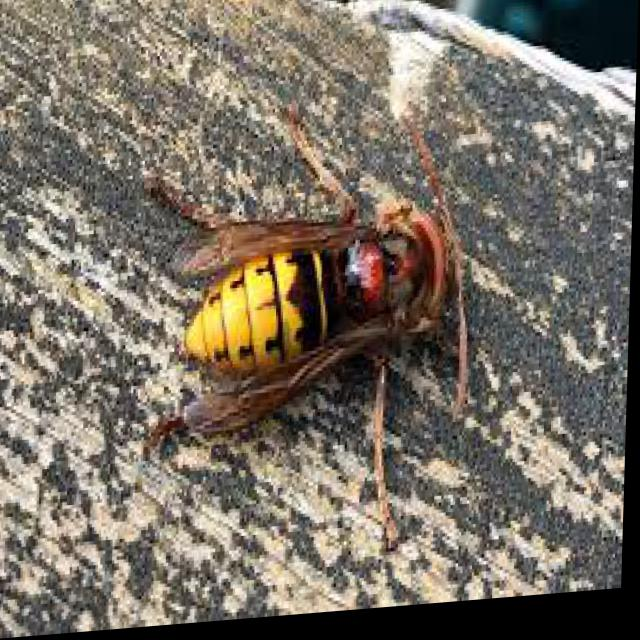Vespa Crabro: (93, 36, 519, 574)
